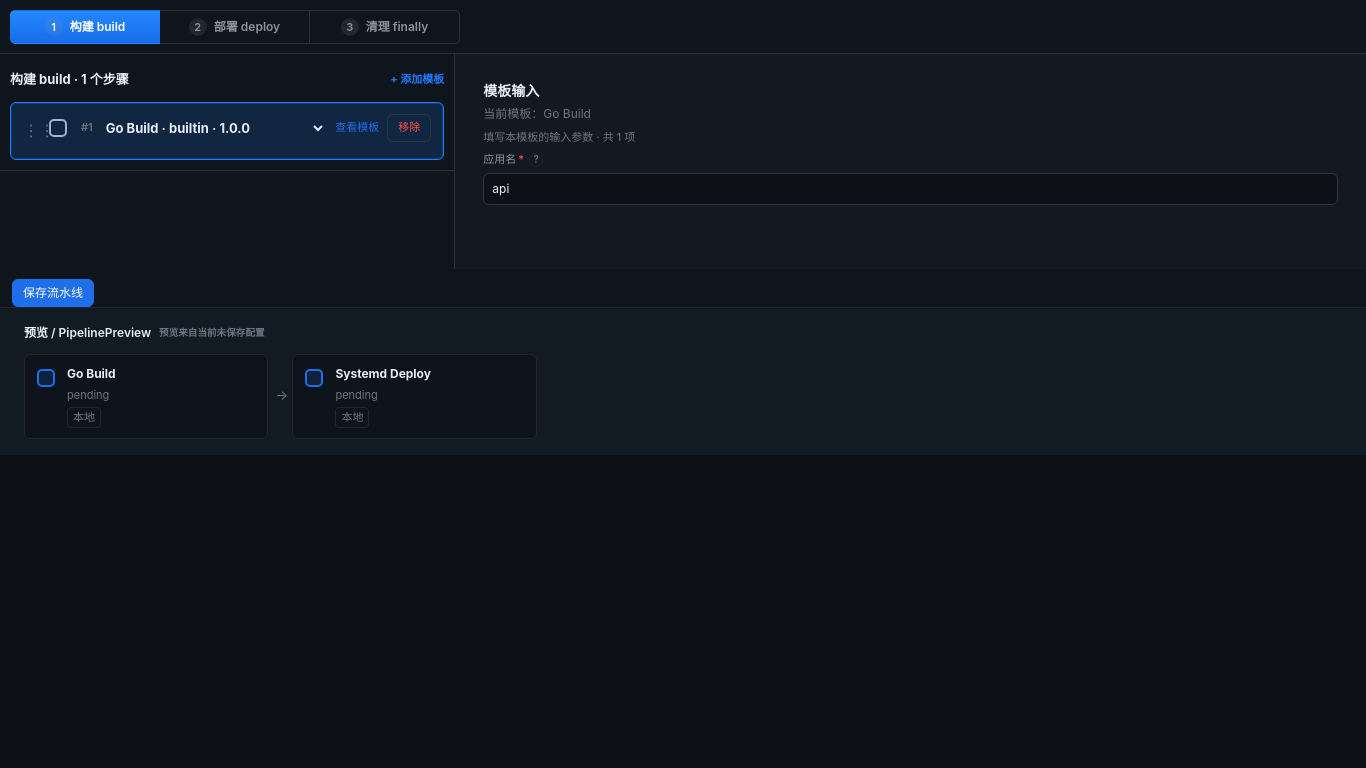
Test: PipelineTemplateWizard › 已有项目级 roles 时只回填 target_role 变量名，不渲染主机勾选
Click the button with test id "pipeline-phase-tab-deploy" at coordinates (235, 27), box [160,10,310,44]
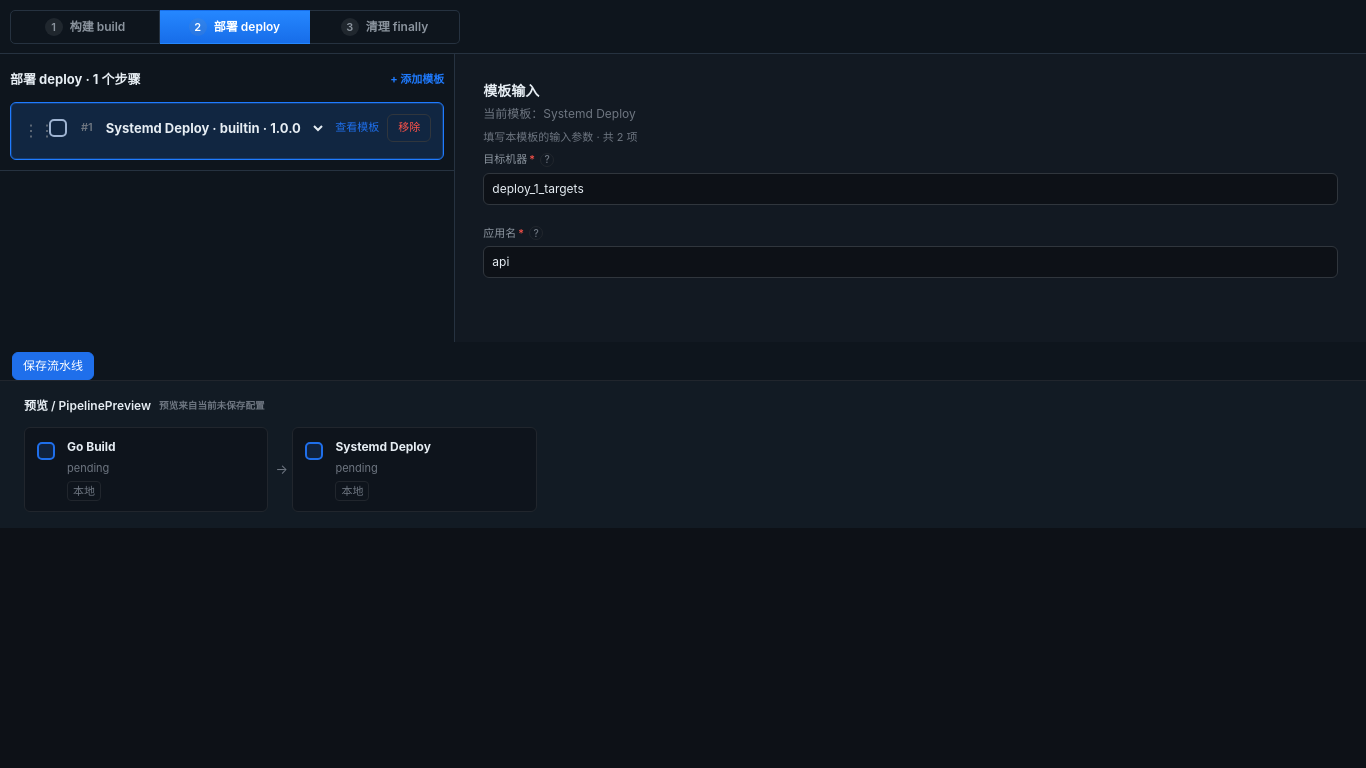
Result: the field with test id "block-1-input-role" holds "deploy_1_targets" at [483,173,1338,205]
